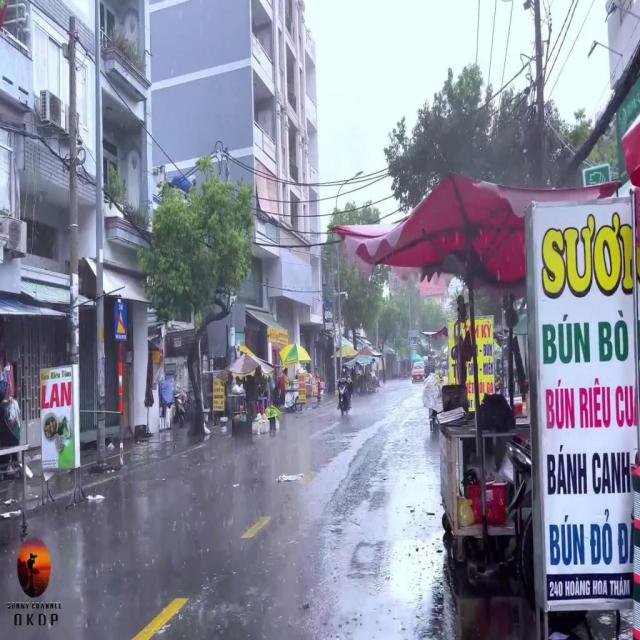khac: (114, 302, 126, 340)
